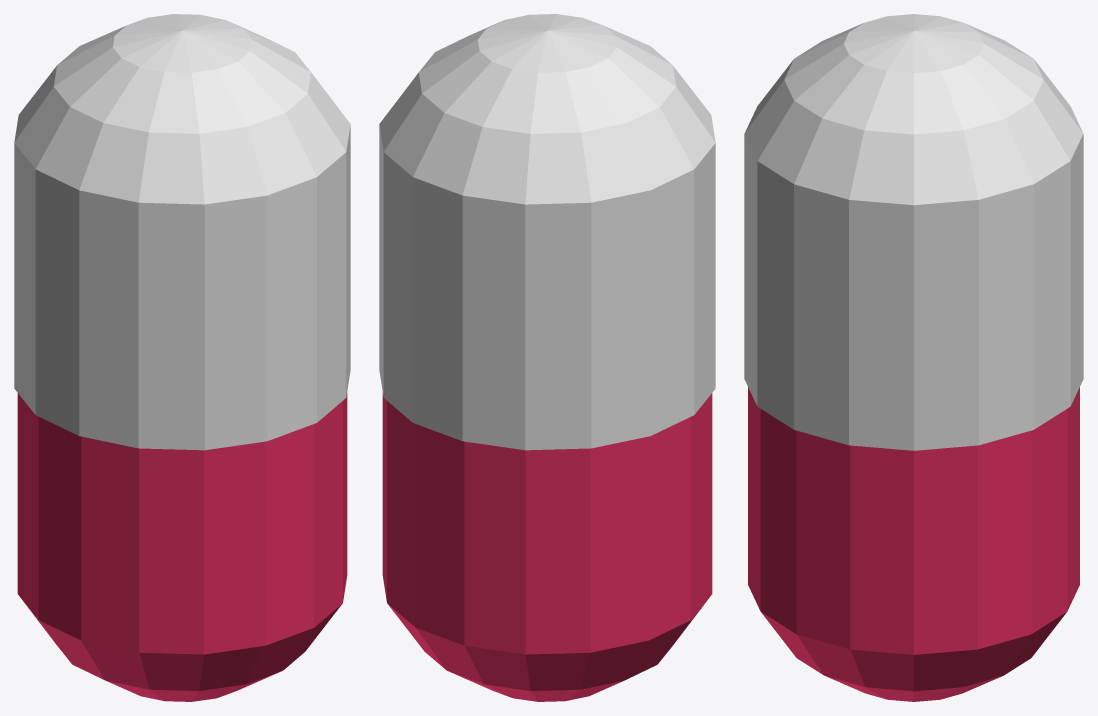
Rendered from pill_model.fbx.
3 renders of one model, left to right at view 1: azimuth 30°, elevation 25°; view 2: azimuth 150°, elevation 25°; view 3: azimuth 270°, elevation 25°, orthographic.
Parts seen in each view (by area): view 1: Sphere.001, Sphere; view 2: Sphere.001, Sphere; view 3: Sphere.001, Sphere.
Part boxes in pixels (left/top/right/bottom): Sphere.001: left=14, top=14, right=350, bottom=450; Sphere: left=17, top=393, right=347, bottom=701; Sphere.001: left=379, top=14, right=715, bottom=450; Sphere: left=382, top=393, right=712, bottom=701; Sphere.001: left=744, top=14, right=1083, bottom=450; Sphere: left=748, top=387, right=1079, bottom=701.
Bounding box in the file's own units: 189 × 402 × 189.
